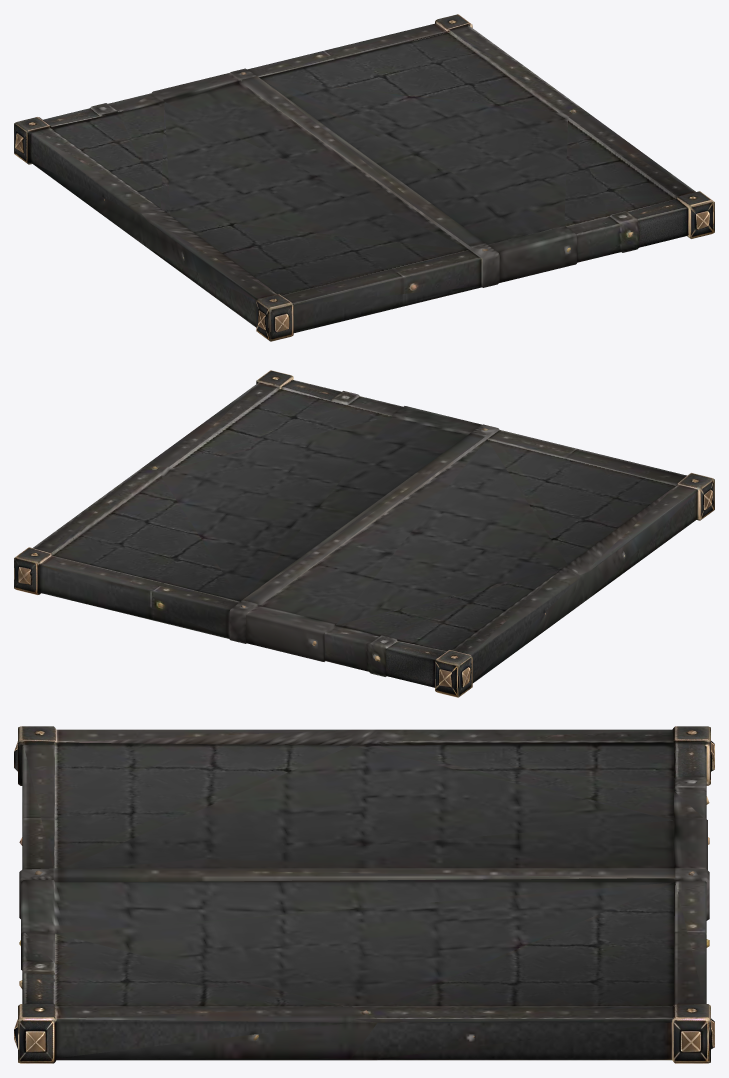
The model's file is ignivar_prop_stone_floor.glb.
The picture shows the model from 3 angles, top to bottom: view 1: azimuth 30°, elevation 25°; view 2: azimuth 150°, elevation 25°; view 3: azimuth 270°, elevation 25°; orthographic projection. The views are drawn at different scales.
Visible parts, largest first — view 1: stone_floor; view 2: stone_floor; view 3: stone_floor.
Part boxes in pixels (bbox=[...]): stone_floor: bbox=[14, 14, 714, 341]; stone_floor: bbox=[14, 370, 714, 697]; stone_floor: bbox=[14, 726, 714, 1063].
Bounding box in the file's own units: 0.998 × 0.0761 × 0.998.
Materials: 1 (1 with a texture image).
